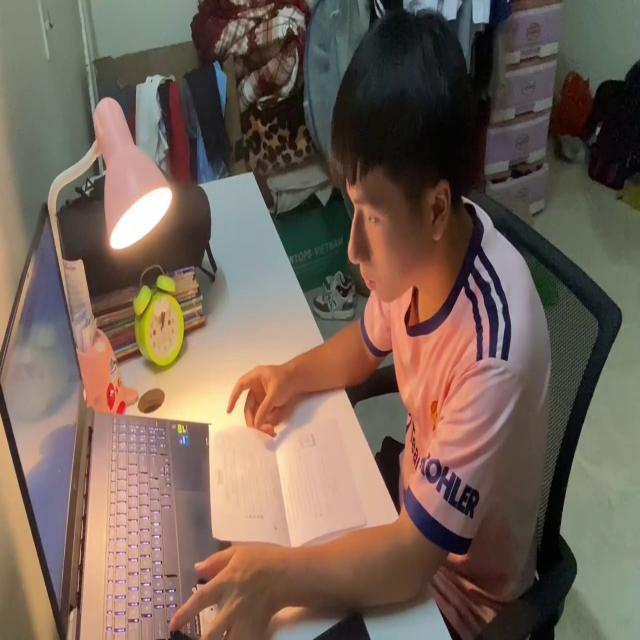book: (206, 407, 369, 547)
laptop: (0, 194, 243, 640)
student: (163, 4, 557, 640)
